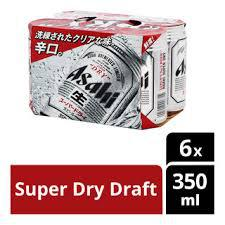beer: (26, 10, 190, 128)
